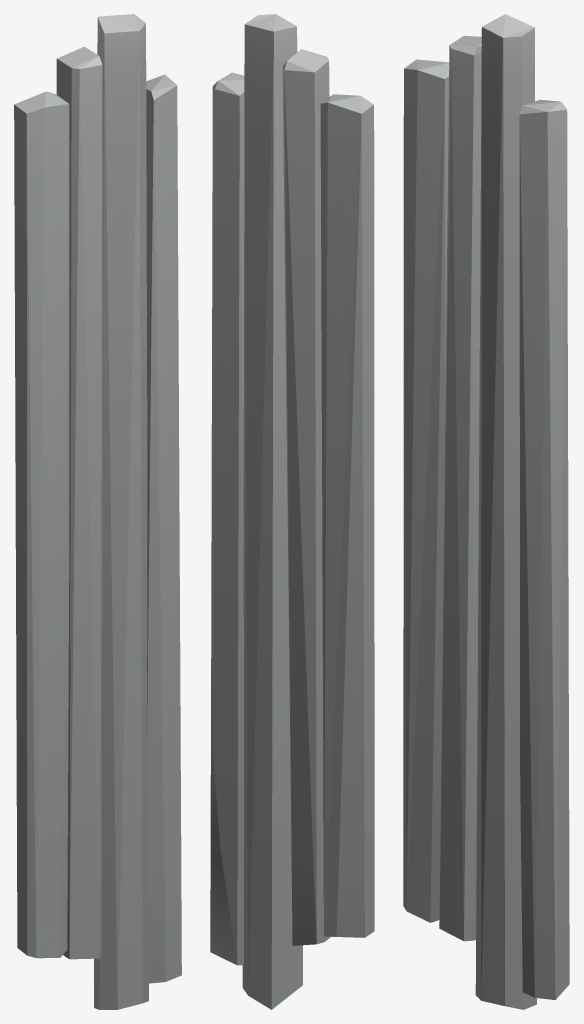
The model's file is Rock_20m_2.fbx.
3 renders of one model, left to right at view 1: azimuth 30°, elevation 25°; view 2: azimuth 150°, elevation 25°; view 3: azimuth 330°, elevation 25°, orthographic.
Visible parts, largest first — view 1: rock_20m_2; view 2: rock_20m_2; view 3: rock_20m_2.
Part boxes in pixels (x1,y1,x2,y2): rock_20m_2: [14, 14, 181, 1009]; rock_20m_2: [210, 14, 374, 1009]; rock_20m_2: [403, 14, 569, 1009].
Bounding box in the file's own units: 3.5 × 21.45 × 1.
1 material, 1 textured.
